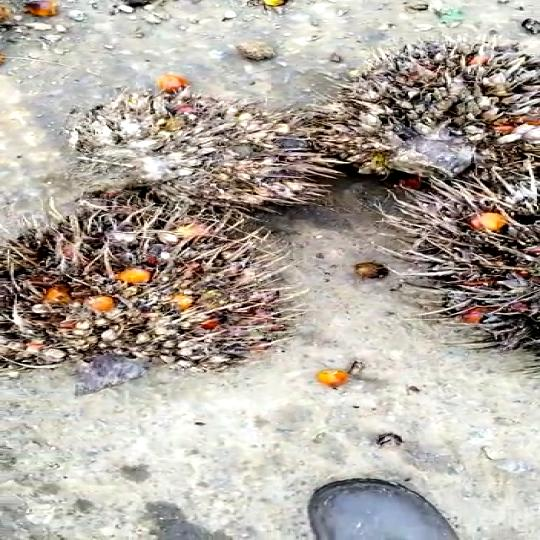terlalu masak: (0, 207, 273, 363), (276, 53, 540, 183), (93, 107, 317, 214)
